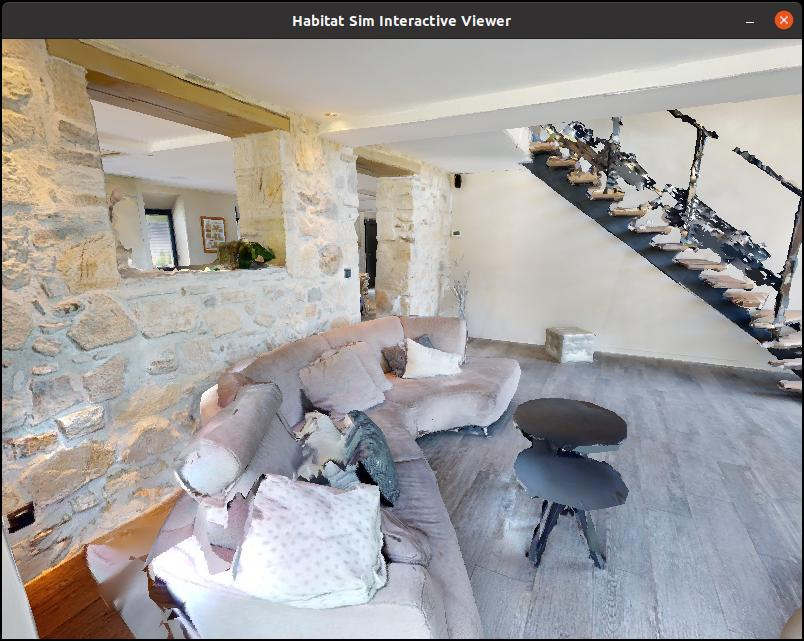sofa: (105, 294, 551, 641)
table: (508, 383, 644, 579)
